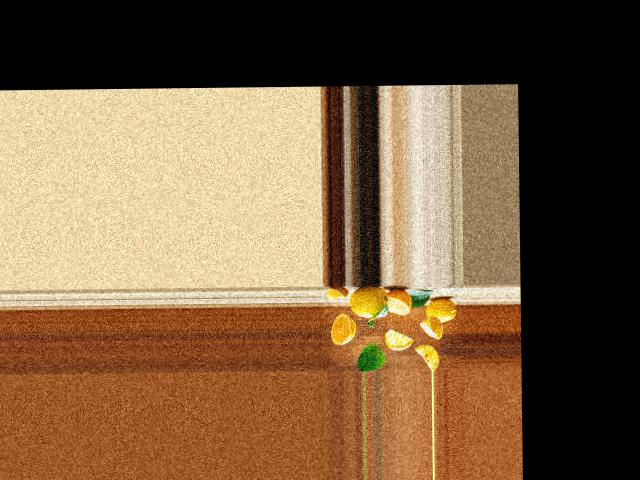lemon: (424, 298, 460, 325)
